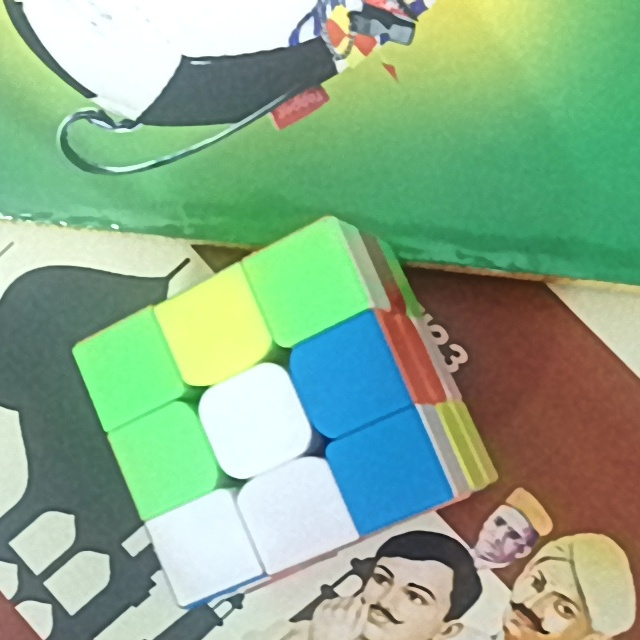tile: (266, 250, 343, 322), (313, 338, 385, 415), (218, 387, 290, 457), (354, 436, 421, 511), (263, 475, 327, 550), (177, 298, 246, 365), (171, 516, 239, 582), (133, 425, 196, 495), (97, 338, 159, 407)
